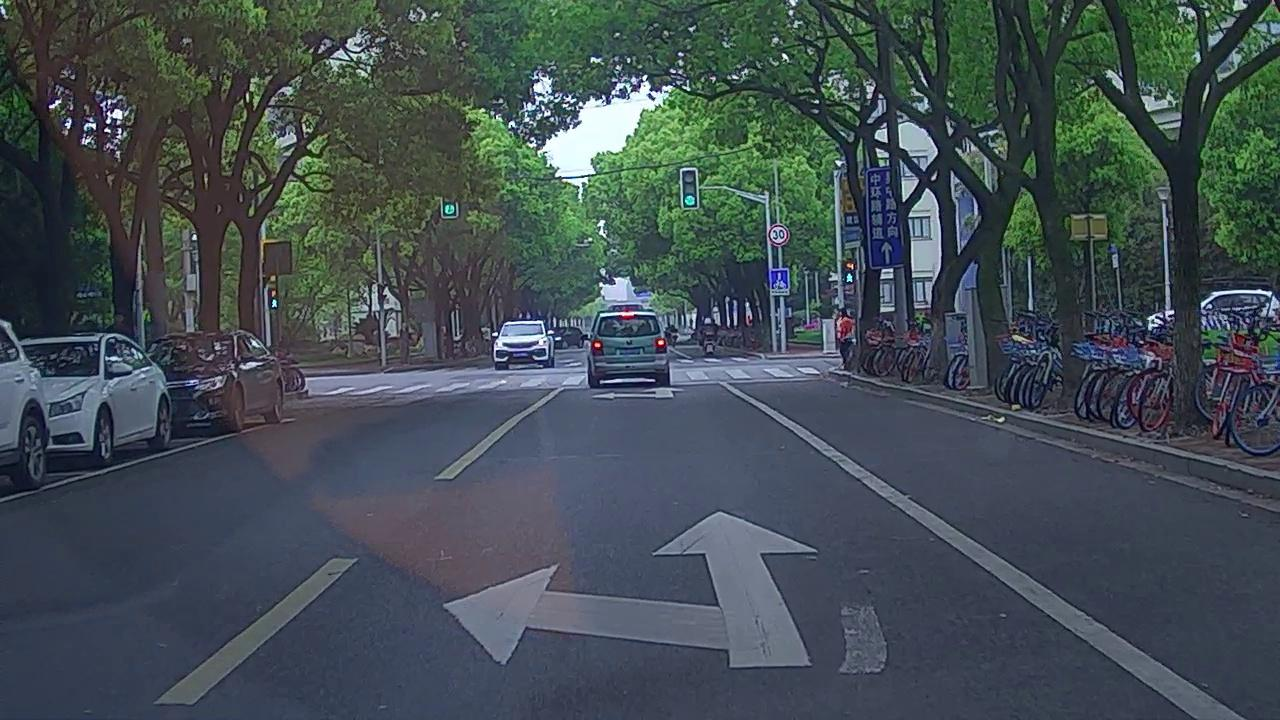traffic_light: (682, 168, 697, 208), (440, 193, 459, 218)
